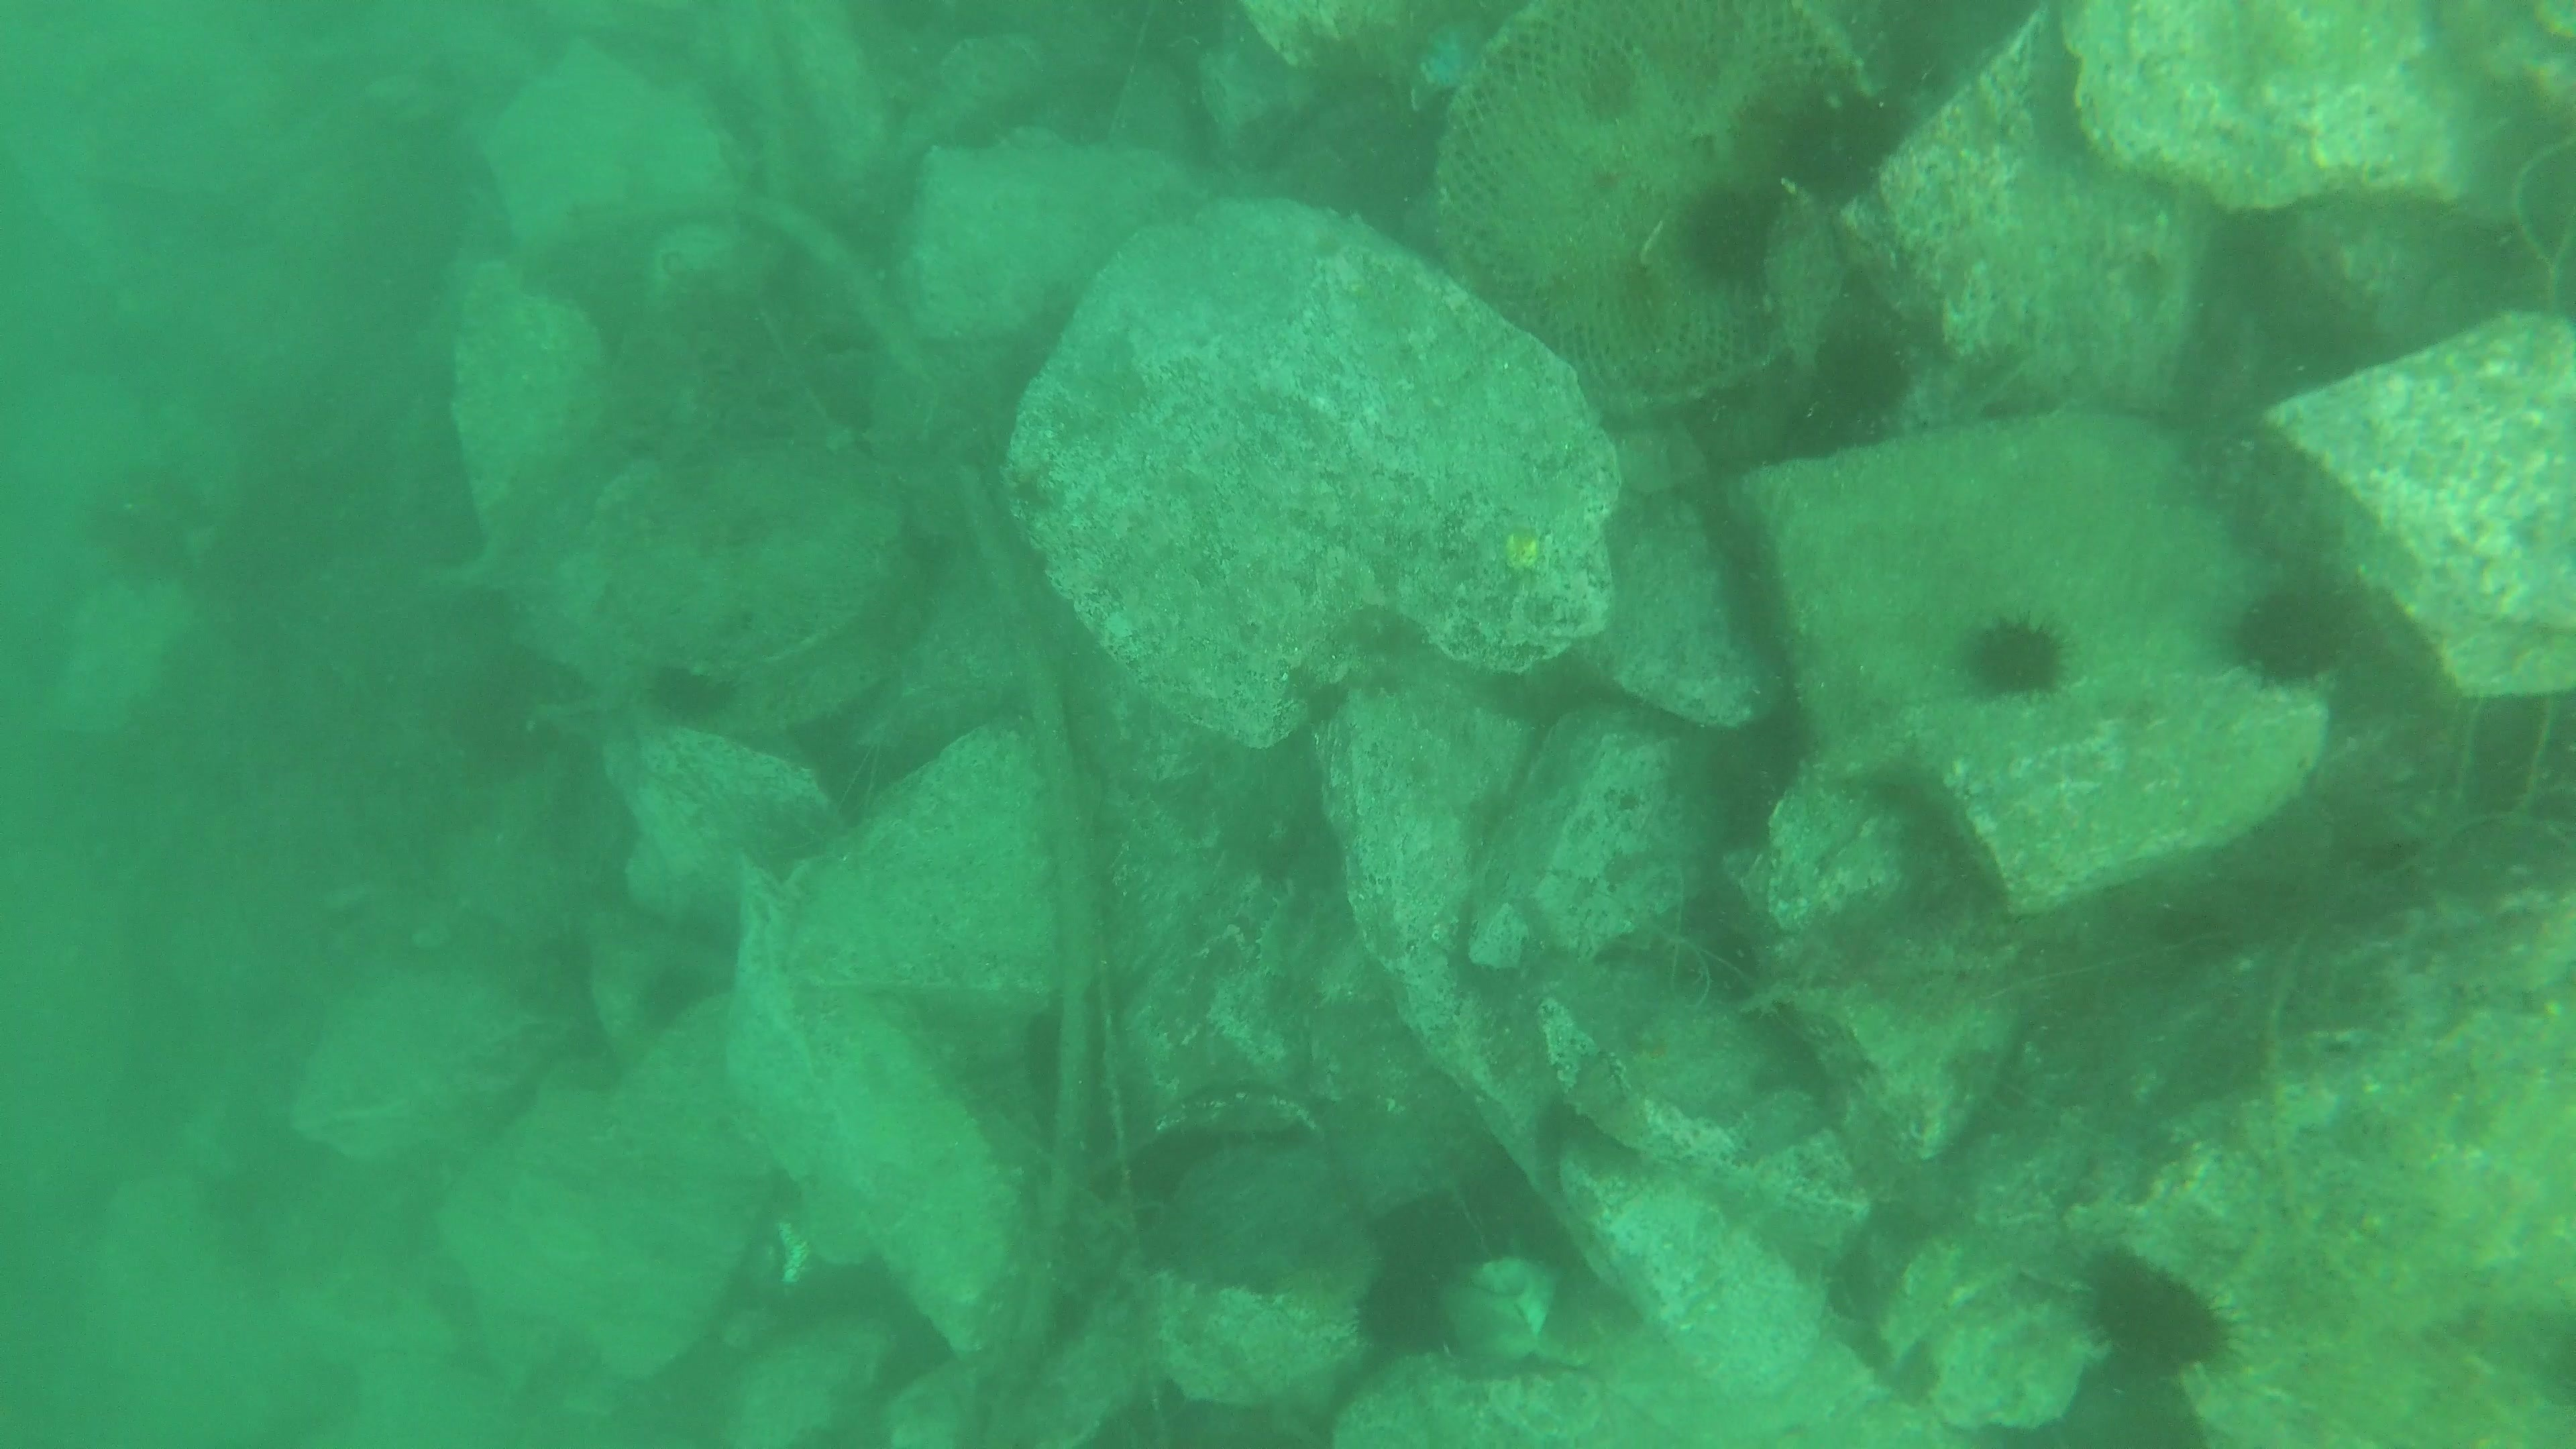echinus: (2074, 1246, 2240, 1382), (1769, 81, 1907, 205), (2220, 573, 2360, 692), (1798, 320, 1918, 448), (1670, 175, 1787, 292), (1350, 1249, 1468, 1364), (1955, 607, 2075, 706), (639, 653, 741, 734)
